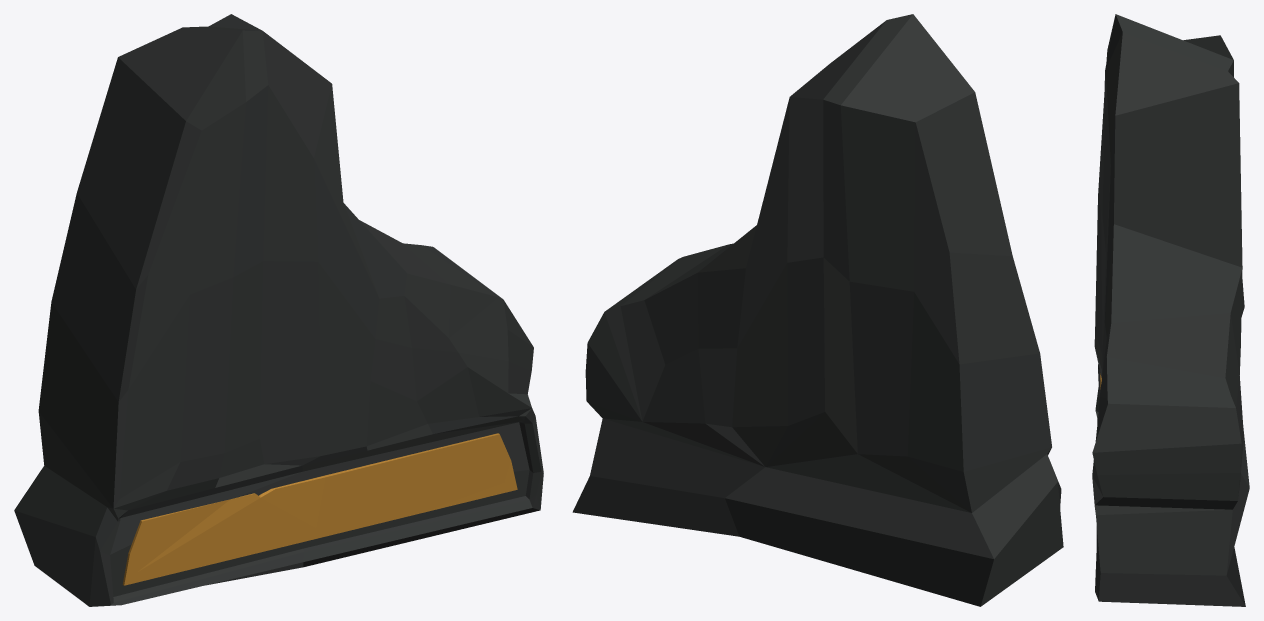
The model's file is Frankie Grave.fbx.
The picture shows the model from 3 angles, left to right: view 1: azimuth 30°, elevation 25°; view 2: azimuth 150°, elevation 25°; view 3: azimuth 270°, elevation 25°; orthographic projection. The views are drawn at different scales.
Visible parts, largest first — view 1: Grave, Plaque; view 2: Grave; view 3: Grave.
Part boxes in pixels (x1,y1,x2,y2): Grave: (14, 14, 543, 606); Plaque: (122, 433, 517, 585); Grave: (572, 14, 1063, 606); Grave: (1092, 14, 1249, 606).
Bounding box in the file's own units: 220 × 258 × 77.7.
